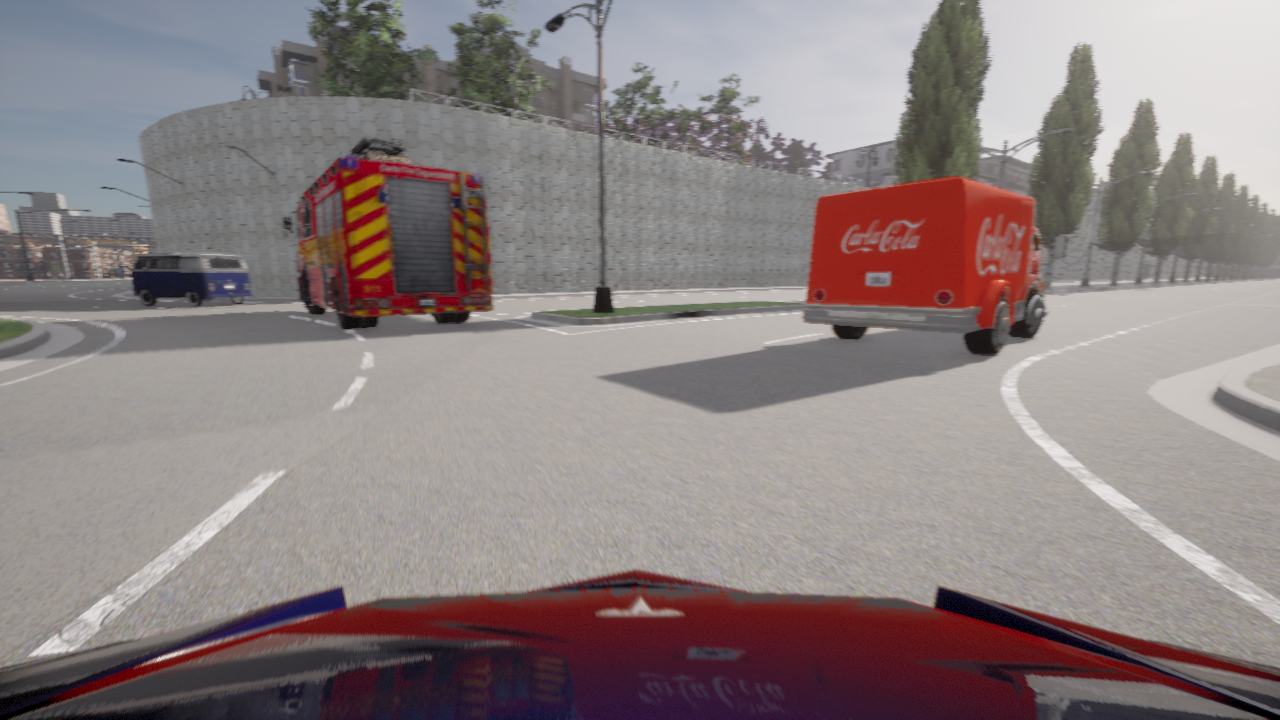cyclist: (0, 569, 1279, 719), (803, 176, 1067, 354), (282, 135, 492, 329), (127, 253, 253, 307)
